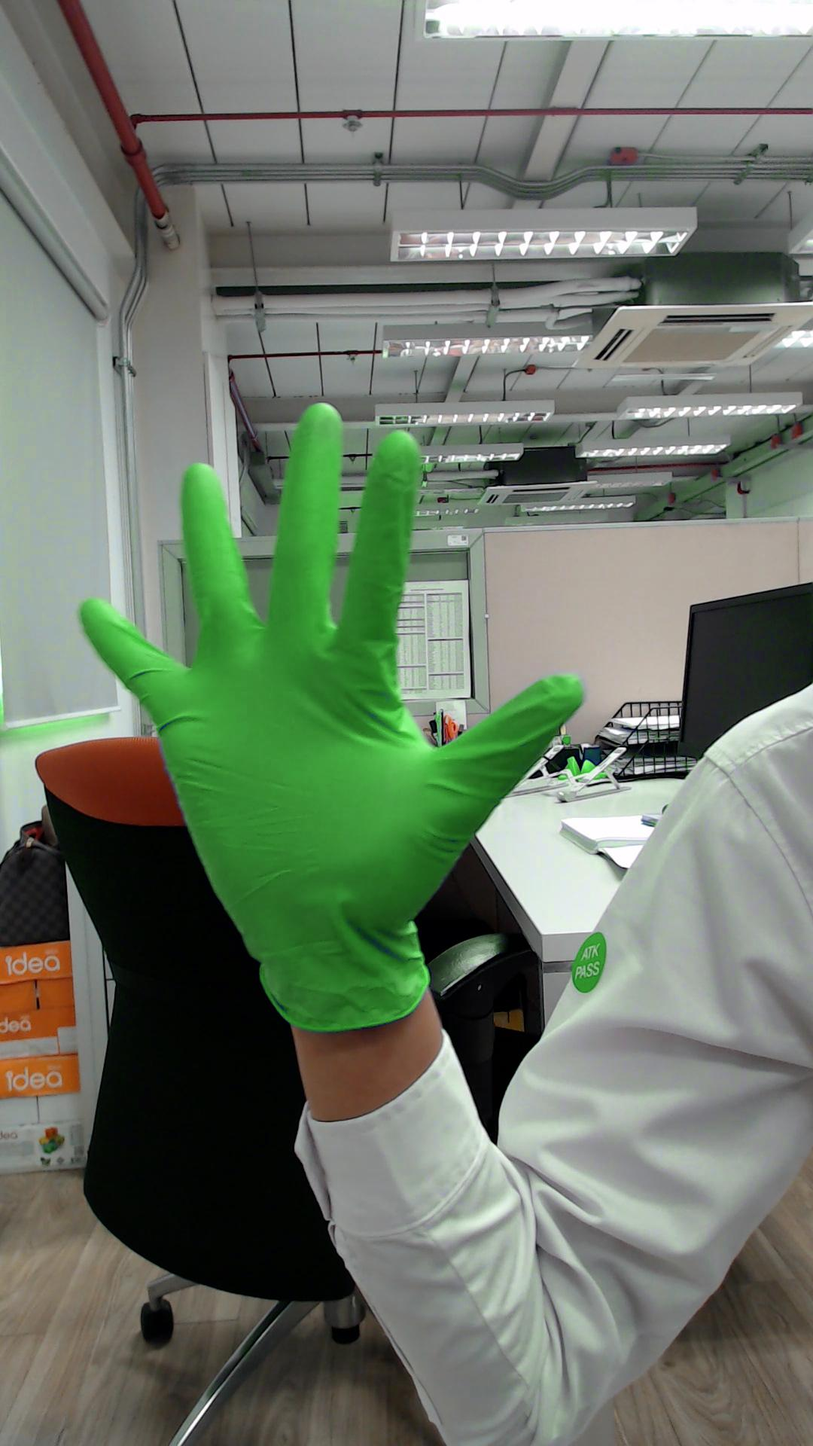gloves: (73, 384, 599, 923)
